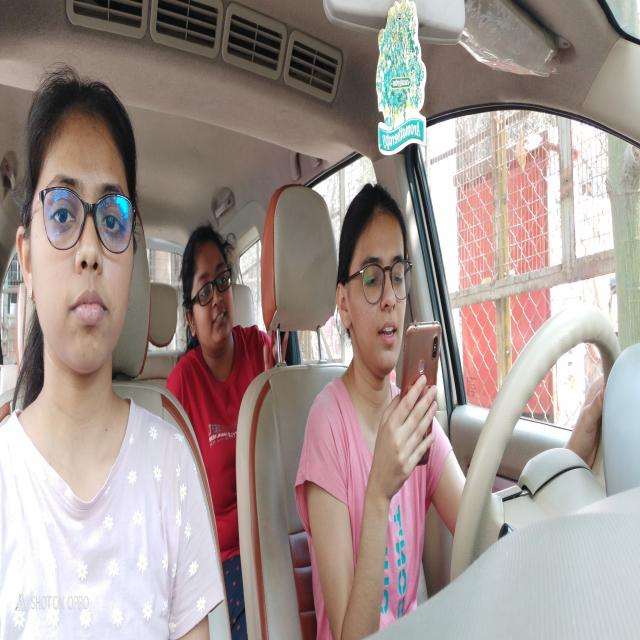mobile: (397, 315, 452, 485)
person: (13, 43, 148, 421), (327, 158, 418, 389), (173, 206, 262, 388)
